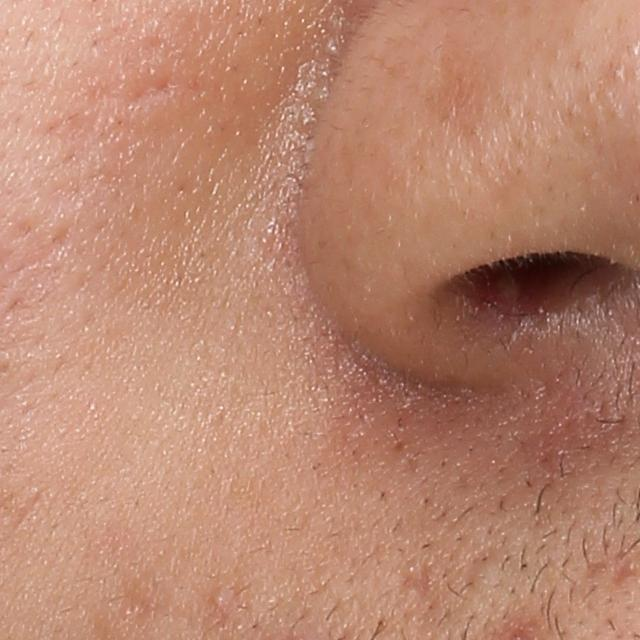atrophic_scar: (119, 70, 179, 112), (400, 561, 435, 600), (578, 561, 611, 587)
comedo: (207, 584, 233, 610)
